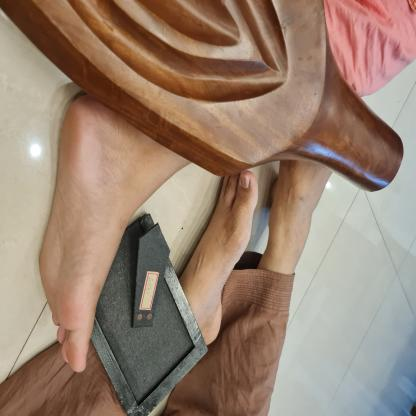leg: (35, 92, 191, 378), (177, 166, 261, 348), (256, 152, 332, 274)
